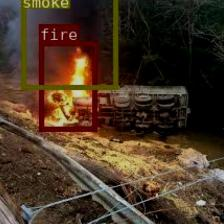fire: (38, 40, 96, 131)
smoke: (21, 0, 116, 88)
